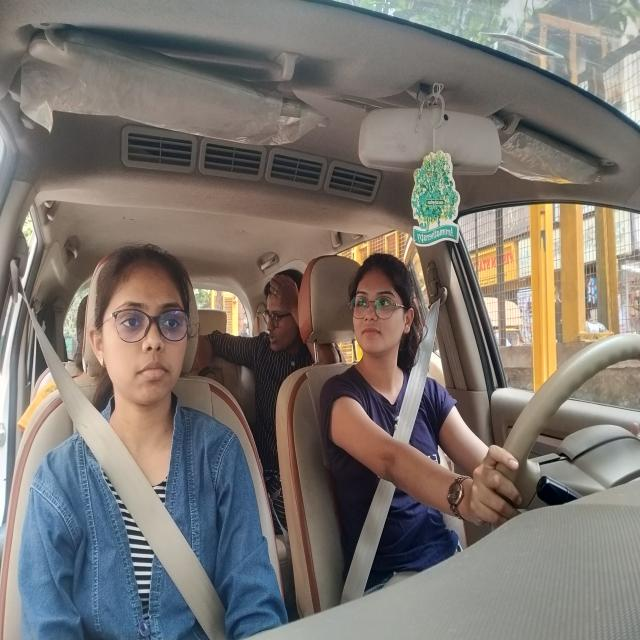LeftRight: (351, 249, 419, 364)
person: (88, 238, 205, 417), (264, 264, 303, 348)
